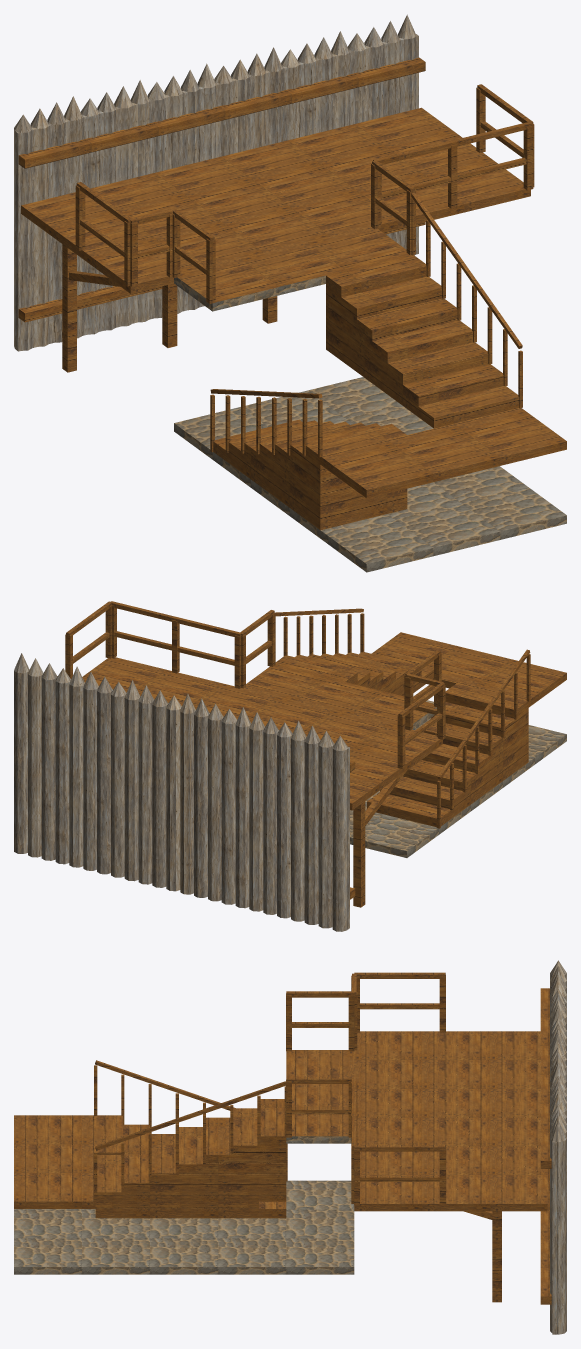
File: frontier-rampart-platform.gltf
The picture shows the model from 3 angles, top to bottom: view 1: azimuth 30°, elevation 25°; view 2: azimuth 150°, elevation 25°; view 3: azimuth 270°, elevation 25°; orthographic projection. The views are drawn at different scales.
Visible parts, largest first — view 1: stairs-L0-wood, walkway-L1-wood, stockade-L0-log, floor-L0-stone, guards-L1-wood, structure-L0-wood, walkway-L1-stone; view 2: stockade-L0-log, stairs-L0-wood, walkway-L1-wood, guards-L1-wood, floor-L0-stone, structure-L0-wood; view 3: walkway-L1-wood, stairs-L0-wood, floor-L0-stone, guards-L1-wood, stockade-L0-log, structure-L0-wood, walkway-L1-stone.
Part boxes in pixels (box(x1,y1,x2,y2)): stairs-L0-wood: box(210, 192, 566, 530); walkway-L1-wood: box(21, 107, 530, 302); stockade-L0-log: box(14, 14, 418, 351); floor-L0-stone: box(174, 377, 566, 572); guards-L1-wood: box(75, 84, 534, 303); structure-L0-wood: box(18, 57, 425, 372); walkway-L1-stone: box(174, 275, 325, 311); stockade-L0-log: box(14, 653, 349, 931); stairs-L0-wood: box(275, 608, 566, 828); walkway-L1-wood: box(82, 657, 442, 810); guards-L1-wood: box(65, 601, 445, 769); floor-L0-stone: box(350, 700, 566, 857); structure-L0-wood: box(350, 759, 406, 907); walkway-L1-wood: box(286, 1031, 547, 1211); stairs-L0-wood: box(14, 1060, 287, 1218); floor-L0-stone: box(14, 1180, 354, 1274); guards-L1-wood: box(286, 972, 445, 1205); stockade-L0-log: box(550, 960, 566, 1334); structure-L0-wood: box(464, 988, 551, 1304); walkway-L1-stone: box(286, 1136, 351, 1143).
Size of the model in its own units: 6.09 by 3.54 by 8.12.
Materials: 4 (4 with a texture image).
